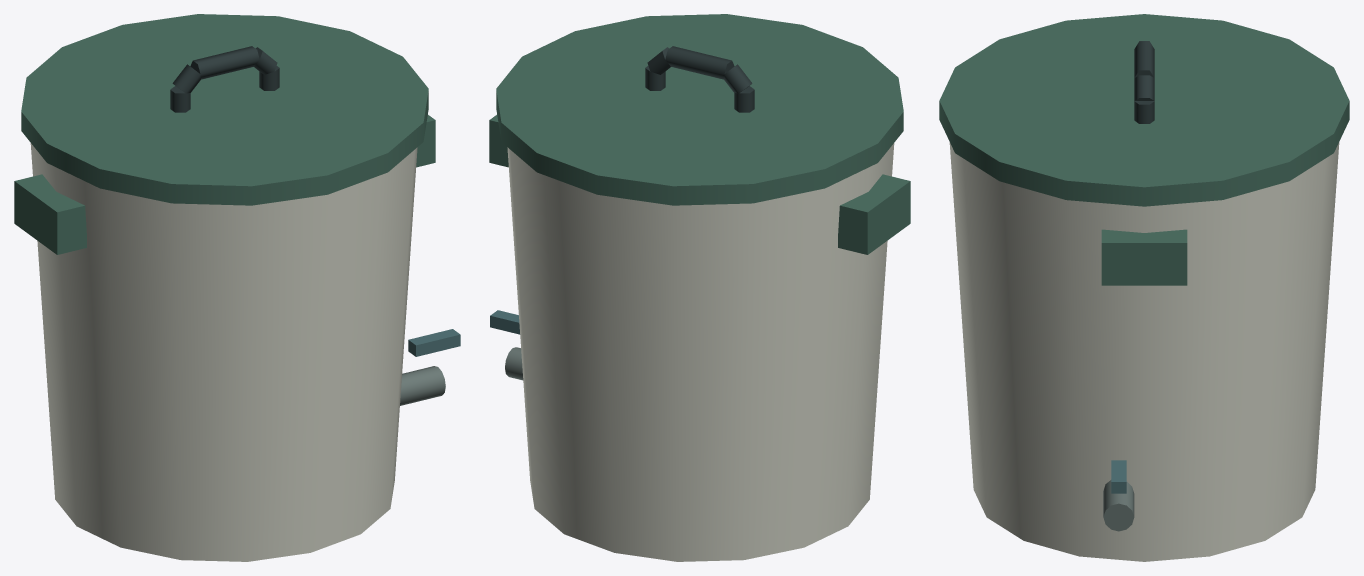
The model's file is legacy-29.glb.
The picture shows the model from 3 angles, left to right: view 1: azimuth 30°, elevation 25°; view 2: azimuth 150°, elevation 25°; view 3: azimuth 270°, elevation 25°; orthographic projection.
Visible parts, largest first — view 1: part-1, part-2, part-8, part-10, part-5, part-11, part-9; view 2: part-1, part-2, part-8, part-5, part-9, part-11; view 3: part-1, part-2, part-9, part-10, part-5, part-11, part-6.
Part boxes in pixels (left/top/right/bottom): part-1: left=30, top=143, right=417, bottom=561; part-2: left=21, top=14, right=428, bottom=205; part-8: left=14, top=174, right=86, bottom=254; part-10: left=400, top=366, right=445, bottom=405; part-5: left=190, top=46, right=259, bottom=79; part-11: left=408, top=329, right=460, bottom=356; part-9: left=416, top=115, right=435, bottom=167; part-1: left=507, top=143, right=894, bottom=561; part-2: left=496, top=14, right=903, bottom=205; part-8: left=838, top=174, right=910, bottom=254; part-5: left=665, top=46, right=734, bottom=79; part-9: left=489, top=115, right=508, bottom=167; part-11: left=490, top=310, right=520, bottom=334; part-1: left=949, top=142, right=1339, bottom=561; part-2: left=939, top=14, right=1349, bottom=206; part-9: left=1101, top=229, right=1187, bottom=285; part-10: left=1103, top=480, right=1134, bottom=531; part-5: left=1134, top=41, right=1154, bottom=77; part-11: left=1111, top=460, right=1126, bottom=493; part-6: left=1134, top=75, right=1154, bottom=100.
Size of the model in its own units: 0.55 by 0.5604 by 0.48.
